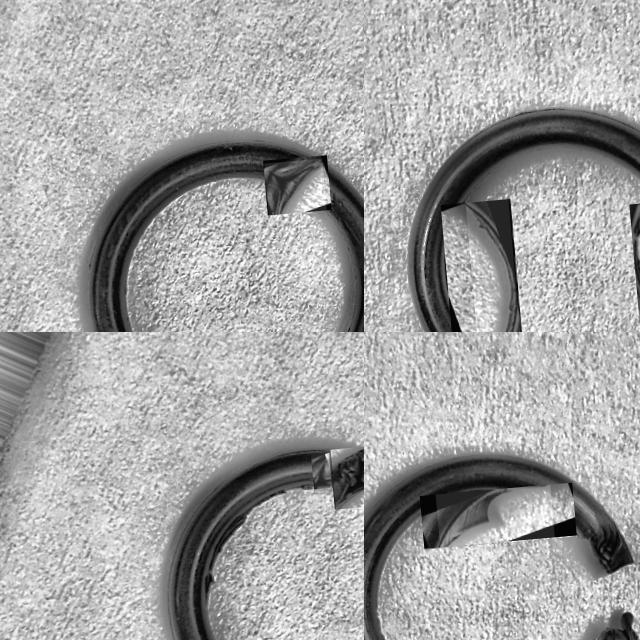切割缺陷: (265, 159, 322, 214), (332, 450, 364, 508), (591, 513, 621, 568), (313, 452, 343, 488)
挤压缺陷: (604, 533, 640, 637)
裂纹: (204, 489, 286, 608), (440, 484, 550, 547), (466, 202, 517, 332), (635, 218, 640, 279), (300, 484, 323, 489)
